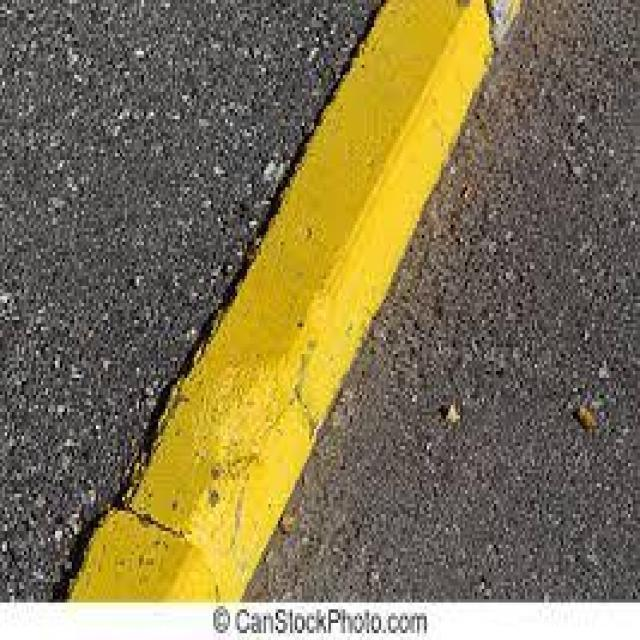curb: (72, 1, 492, 602)
